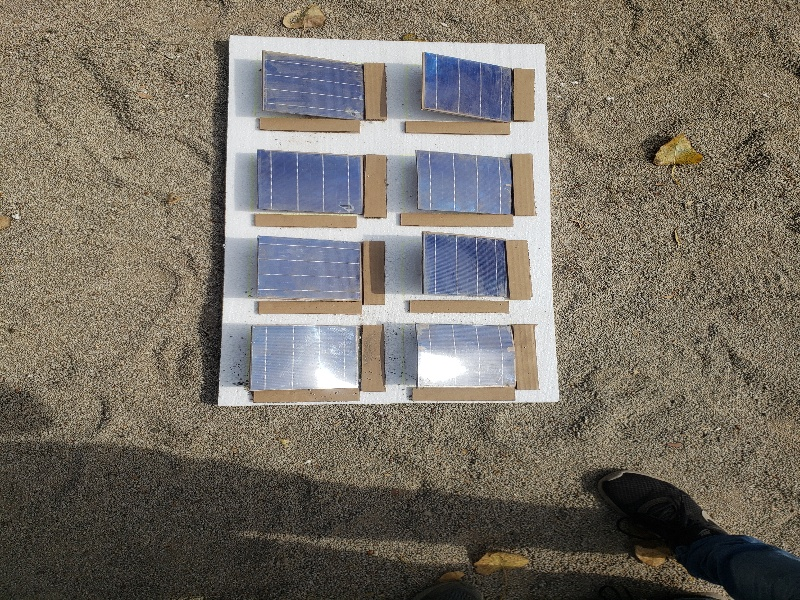semi: (252, 149, 368, 223), (255, 236, 367, 309), (416, 149, 523, 222), (260, 48, 364, 123), (422, 51, 518, 130), (421, 230, 510, 300)
